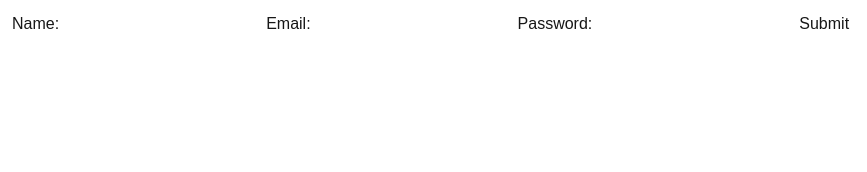
Test case: RegistrationForm › shows error message when email is invalid
The width and height of the screenshot is (867, 172).
Fill the fields with invalid email
Type "John Doe" into the field with test id "name-input".
click(163, 24); type("John Doe")  # box [59,12,266,36]
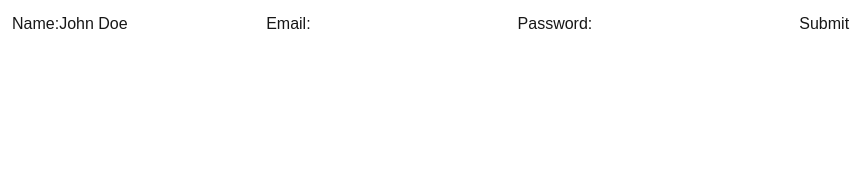
Type "john@example" into the field with test id "email-input".
click(414, 24); type("john@example")  # box [311,12,518,36]
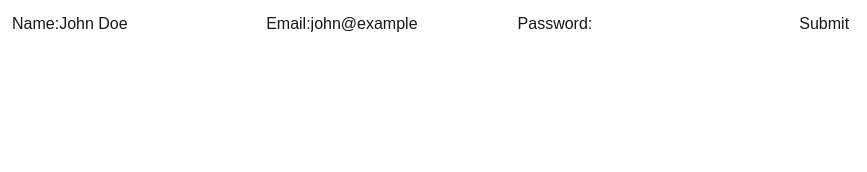
Type "password123" into the password field with test id "password-input".
click(696, 24); type("password123")  # box [592,12,799,36]
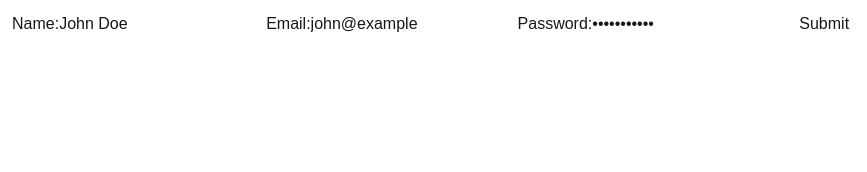
Click the button with test id "submit-button".
click(824, 24)  # box [799,12,849,36]
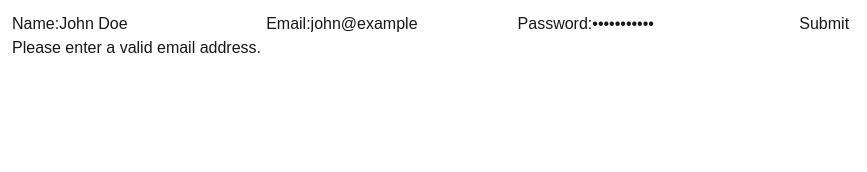
Check: the text with test id "error-message" reads "Please enter a valid email address.", box [12,39,261,56]
